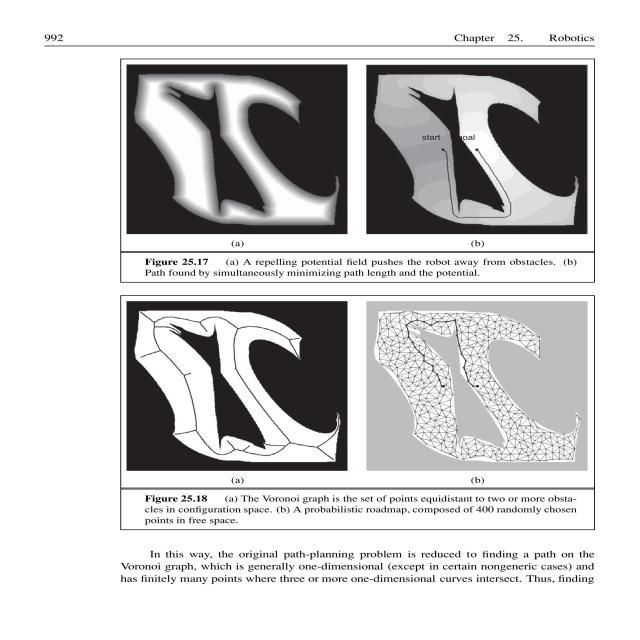diagram: (93, 51, 587, 527)
